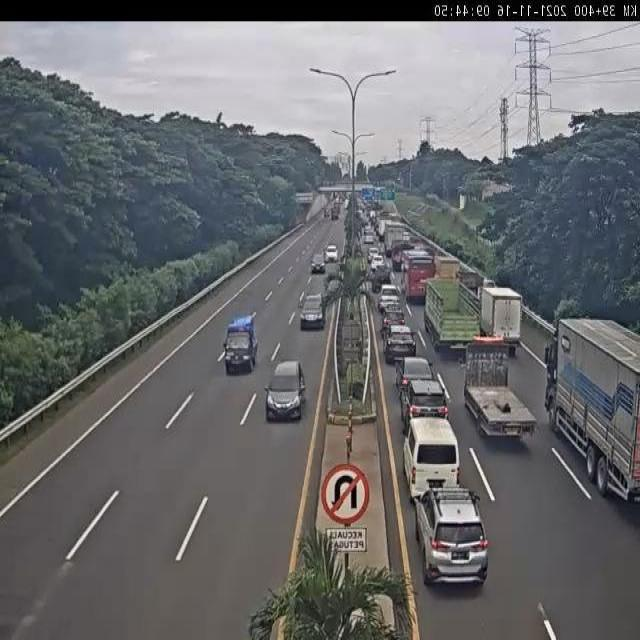Bus: (400, 250, 438, 298)
Car: (412, 486, 489, 592), (398, 376, 449, 428), (264, 361, 306, 422), (393, 355, 435, 388), (384, 326, 417, 364), (299, 292, 325, 330), (378, 292, 402, 318), (310, 254, 326, 273), (325, 244, 339, 263), (370, 256, 384, 274), (367, 246, 379, 261), (485, 278, 495, 291), (402, 231, 412, 243)
Truck: (544, 319, 640, 508), (462, 337, 536, 440), (425, 279, 481, 355), (480, 285, 524, 355), (222, 318, 257, 375), (453, 268, 485, 295), (383, 222, 408, 256), (431, 252, 461, 279), (391, 242, 418, 271), (378, 219, 392, 243), (330, 208, 339, 222)
Van: (401, 413, 462, 499)
